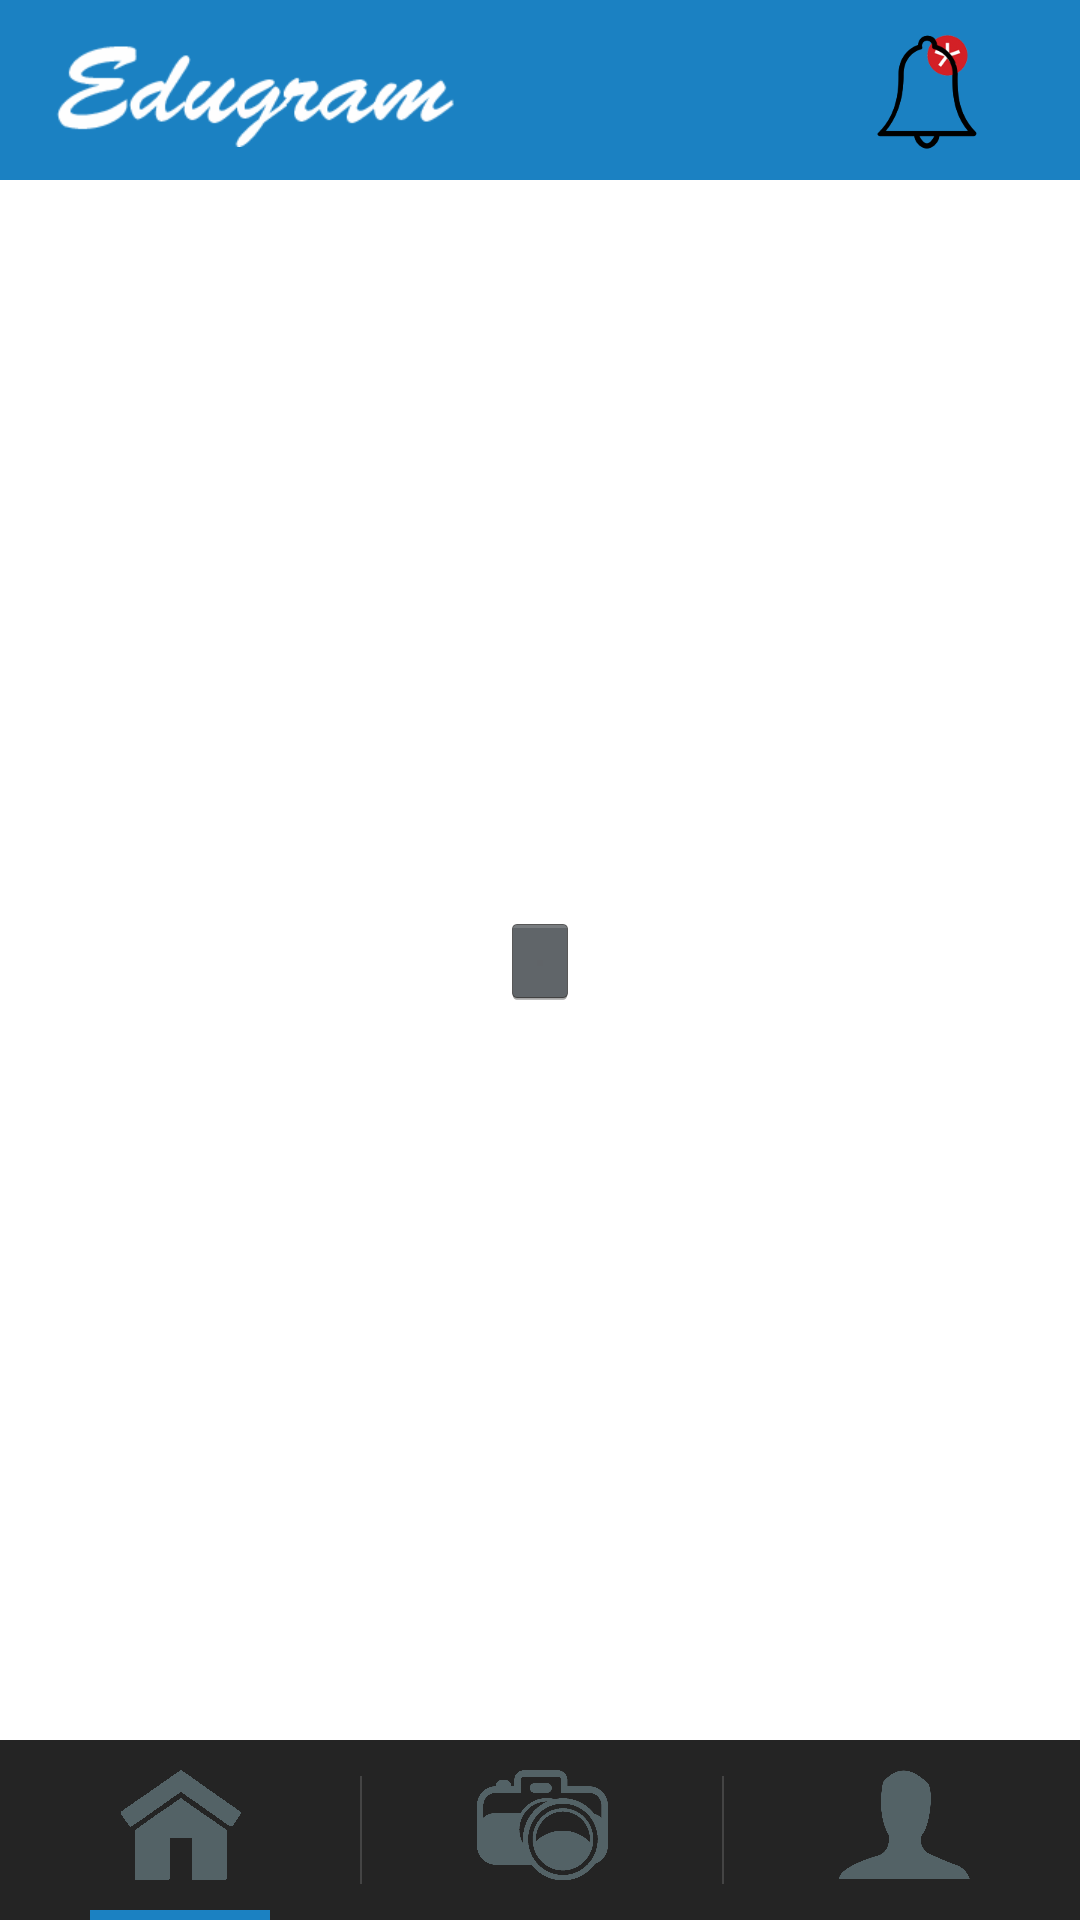

Where to tap for icons on this 1080*1920 app screen, as point (x, y):
camera: point (542, 1825)
home: point (180, 1830)
Profile: point (904, 1824)
